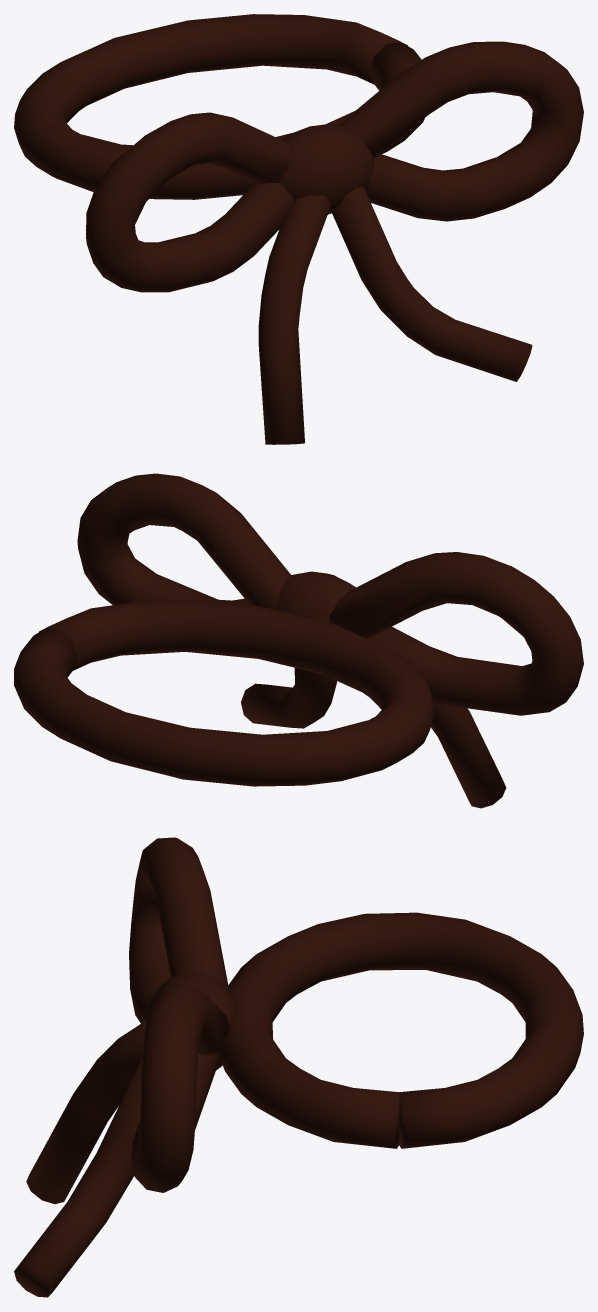
The model's file is loot-bag-rope.obj.
3 views of the same model, one above another, from view 1: azimuth 30°, elevation 25°; view 2: azimuth 150°, elevation 25°; view 3: azimuth 270°, elevation 25° (orthographic). The views are drawn at different scales.
Parts seen in each view (by area): view 1: Rope; view 2: Rope; view 3: Rope.
Part boxes in pixels (left/top/right/bottom): Rope: left=14, top=14, right=583, bottom=444; Rope: left=14, top=473, right=583, bottom=808; Rope: left=14, top=837, right=583, bottom=1297.
Size of the model in its own units: 1.06 by 0.624 by 0.9757.
